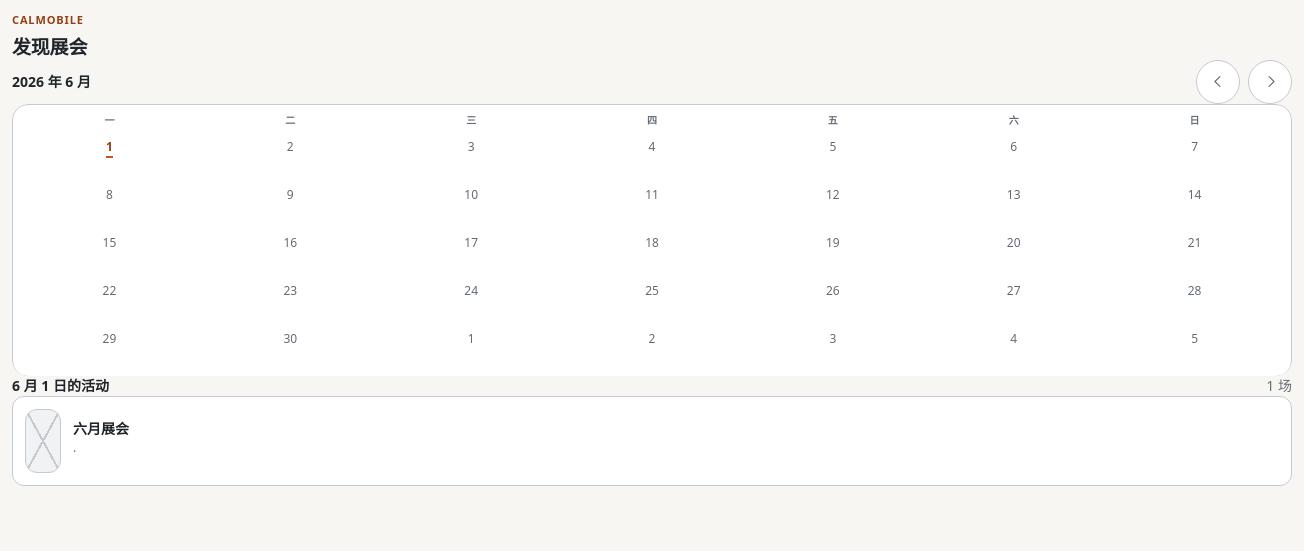
Test: 首页加载 › 连续切月后，晚到的上月响应不会覆盖当前月份展会
Click the button titled "下一个月".
click(1270, 82)  # box [1248, 60, 1292, 104]
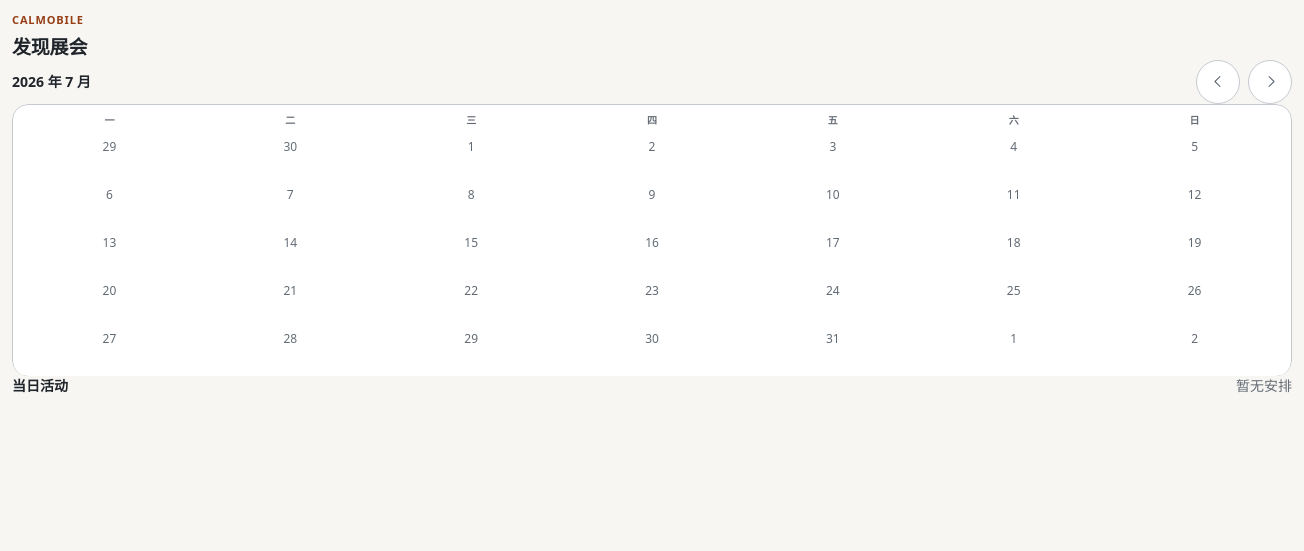
Click the button titled "下一个月".
click(1270, 82)  # box [1248, 60, 1292, 104]
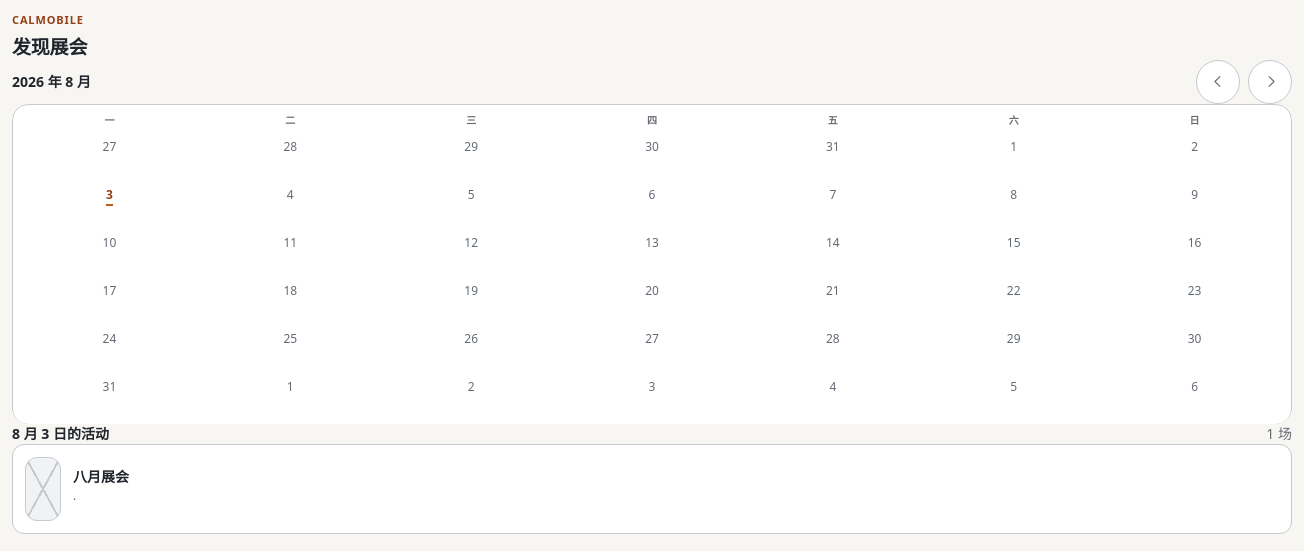
expect the text "八月展会" is shown: met, box [73, 467, 129, 488]
